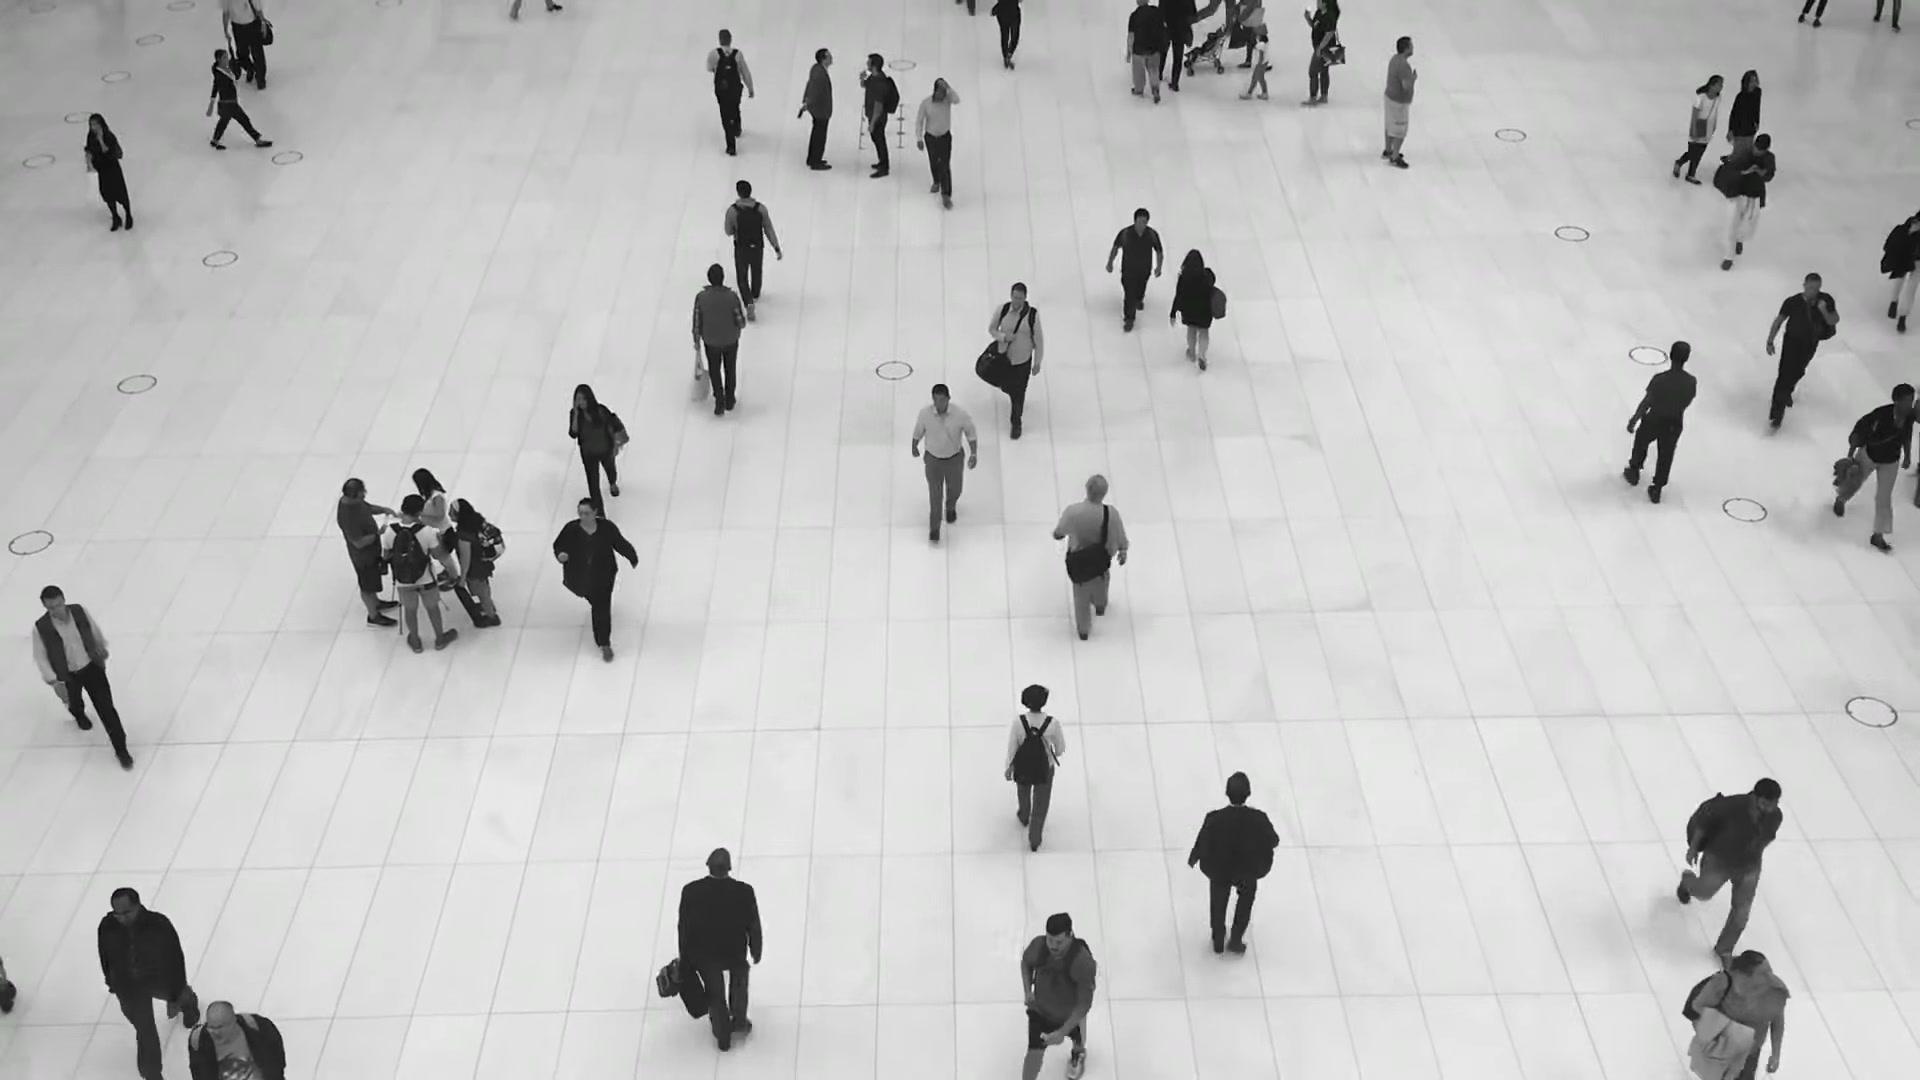person: (668, 852, 764, 1069), (95, 880, 197, 1080), (1191, 778, 1280, 988), (1682, 774, 1780, 962), (29, 581, 133, 755), (1681, 949, 1791, 1080), (1017, 909, 1100, 1079), (552, 493, 634, 654), (382, 494, 458, 653), (1841, 378, 1912, 544), (1055, 475, 1128, 636), (1766, 268, 1840, 421), (1628, 340, 1698, 499), (910, 381, 979, 534), (1005, 684, 1067, 850), (337, 476, 400, 629), (690, 267, 747, 428), (988, 282, 1045, 442), (1715, 133, 1776, 275), (185, 999, 287, 1080), (724, 179, 778, 320), (569, 380, 628, 506), (448, 497, 502, 627), (1111, 203, 1164, 323), (913, 74, 960, 204), (1671, 74, 1723, 189), (706, 25, 753, 150), (84, 112, 134, 231), (412, 467, 459, 591), (210, 47, 266, 150), (1172, 251, 1217, 377), (858, 52, 900, 179), (1381, 34, 1419, 168), (1125, 0, 1172, 103), (799, 47, 834, 170), (1718, 69, 1762, 165), (1301, 0, 1340, 108), (1245, 30, 1272, 102)
